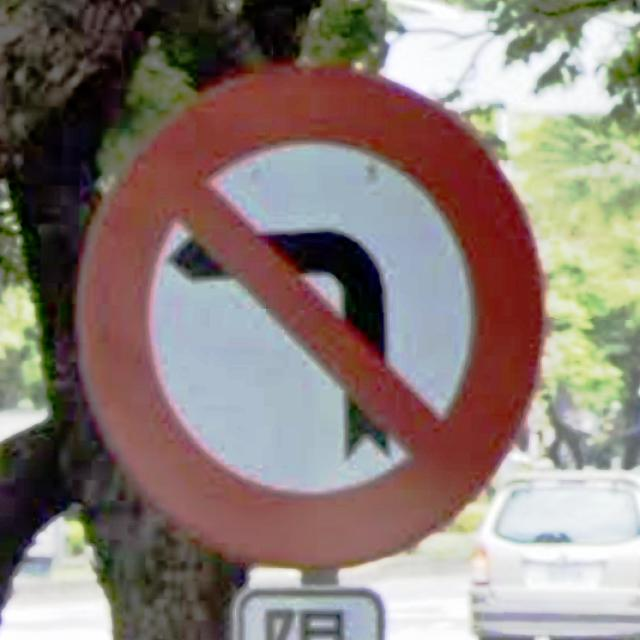noturnleft: (74, 63, 548, 571)
